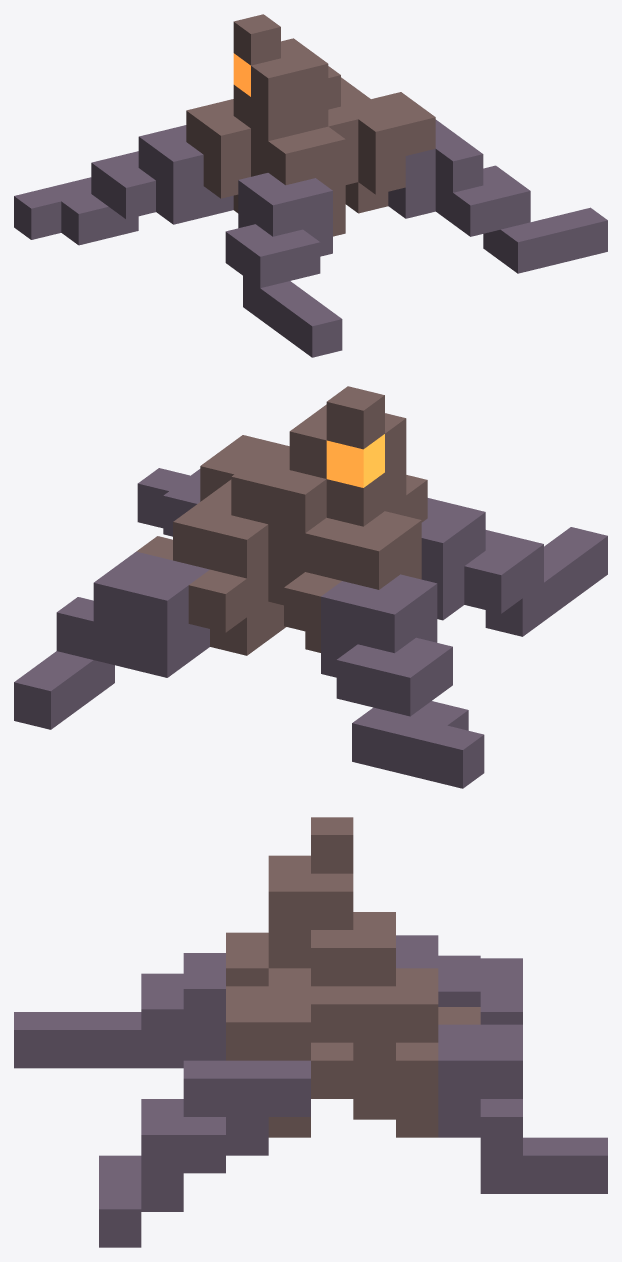
File: cinder_root.glb
The picture shows the model from 3 angles, top to bottom: view 1: azimuth 30°, elevation 25°; view 2: azimuth 150°, elevation 25°; view 3: azimuth 270°, elevation 25°; orthographic projection. The views are drawn at different scales.
Size of the model in its own units: 0.875 by 0.4375 by 0.875.
